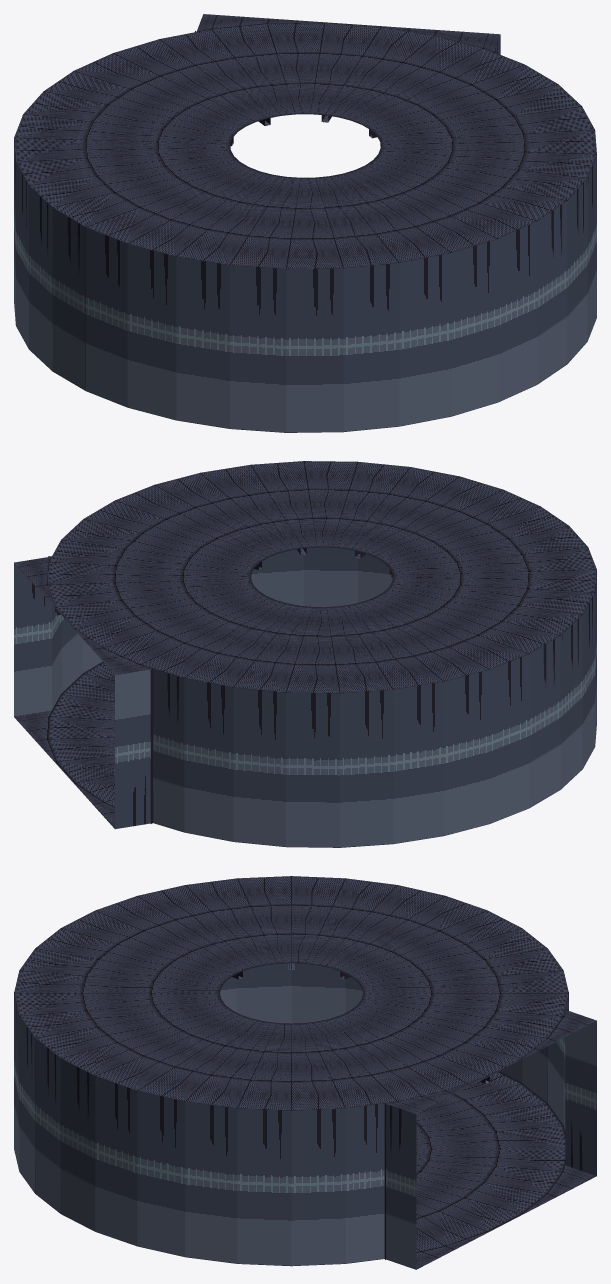
The model's file is SUB-02_Cruce_de_nave_I0.gltf.
3 views of the same model, one above another, from view 1: azimuth 30°, elevation 25°; view 2: azimuth 150°, elevation 25°; view 3: azimuth 270°, elevation 25° (orthographic). The views are drawn at different scales.
Parts seen in each view (by area): view 1: SUB-02_Cruce_de_nave_I0-col; view 2: SUB-02_Cruce_de_nave_I0-col; view 3: SUB-02_Cruce_de_nave_I0-col.
Part boxes in pixels (x1,y1,x2,y2): SUB-02_Cruce_de_nave_I0-col: (14,14,596,432); SUB-02_Cruce_de_nave_I0-col: (14,461,596,847); SUB-02_Cruce_de_nave_I0-col: (14,876,596,1269).
Bounding box in the file's own units: 19.7 × 6 × 20.38.
2 materials, 2 textured.
